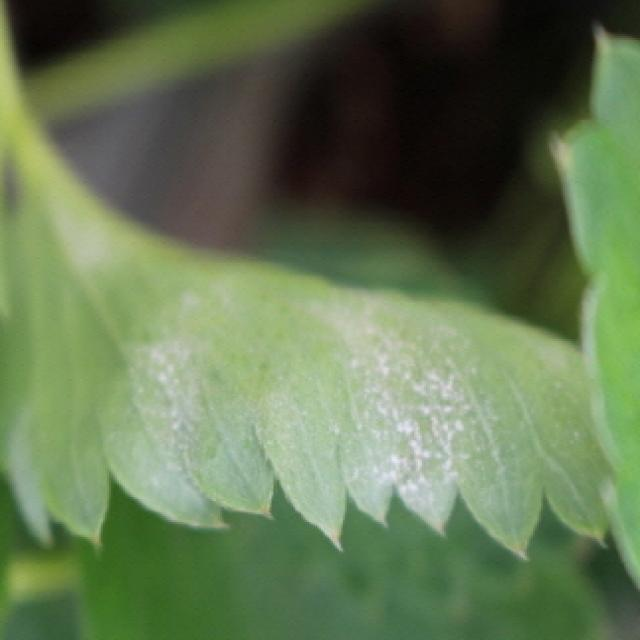Powdery Mildew Leaf: (0, 130, 610, 564)
